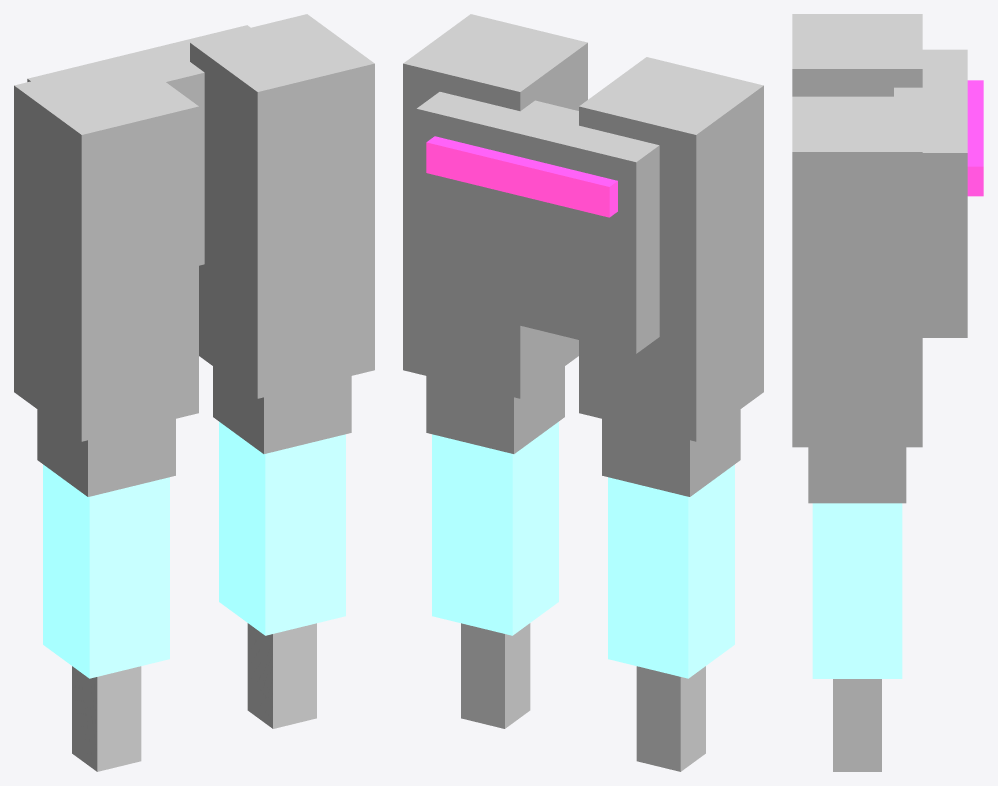
The model's file is FXJetpack.fbx.
The picture shows the model from 3 angles, left to right: view 1: azimuth 30°, elevation 25°; view 2: azimuth 150°, elevation 25°; view 3: azimuth 270°, elevation 25°; orthographic projection. The views are drawn at different scales.
Visible parts, largest first — view 1: FX Jetpack_body_1, FX Jetpack_body_0, FX Jetpack_body_4, FX Jetpack_body_5, FX Jetpack_body_2, FX Jetpack_body_3, FX Jetpack_body_7, FX Jetpack_body_6, FX Jetpack_body_8; view 2: FX Jetpack_body_1, FX Jetpack_body_8, FX Jetpack_body_0, FX Jetpack_body_4, FX Jetpack_body_5, FX Jetpack_body_2, FX Jetpack_body_3, FX Jetpack_body_9, FX Jetpack_body_7, FX Jetpack_body_6; view 3: FX Jetpack_body_0, FX Jetpack_body_4, FX Jetpack_body_8, FX Jetpack_body_1, FX Jetpack_body_2, FX Jetpack_body_6, FX Jetpack_body_9.
Boxes of the visible parts, box(x1,y1,x2,y2) form: FX Jetpack_body_1: box(14, 57, 198, 441); FX Jetpack_body_0: box(190, 14, 374, 398); FX Jetpack_body_4: box(219, 421, 345, 635); FX Jetpack_body_5: box(43, 464, 169, 678); FX Jetpack_body_2: box(213, 366, 351, 453); FX Jetpack_body_3: box(37, 409, 175, 496); FX Jetpack_body_7: box(72, 666, 141, 771); FX Jetpack_body_6: box(247, 623, 316, 728); FX Jetpack_body_8: box(27, 25, 250, 265); FX Jetpack_body_1: box(579, 57, 763, 441); FX Jetpack_body_8: box(416, 92, 659, 353); FX Jetpack_body_0: box(403, 14, 587, 398); FX Jetpack_body_4: box(432, 421, 558, 635); FX Jetpack_body_5: box(608, 464, 734, 678); FX Jetpack_body_2: box(426, 366, 564, 453); FX Jetpack_body_3: box(602, 409, 740, 496); FX Jetpack_body_9: box(426, 136, 617, 217); FX Jetpack_body_7: box(636, 666, 705, 771); FX Jetpack_body_6: box(461, 623, 530, 728); FX Jetpack_body_0: box(792, 96, 922, 447); FX Jetpack_body_4: box(812, 503, 902, 678); FX Jetpack_body_8: box(894, 49, 967, 337); FX Jetpack_body_1: box(792, 14, 922, 96); FX Jetpack_body_2: box(808, 447, 906, 503); FX Jetpack_body_6: box(833, 679, 881, 771); FX Jetpack_body_9: box(967, 80, 983, 196).
Bounding box in the file's own units: 80 × 173 × 47.
